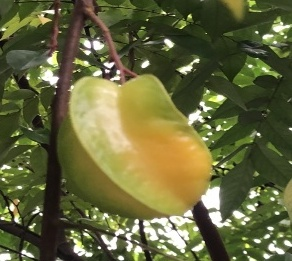Khe: (54, 71, 218, 226)
